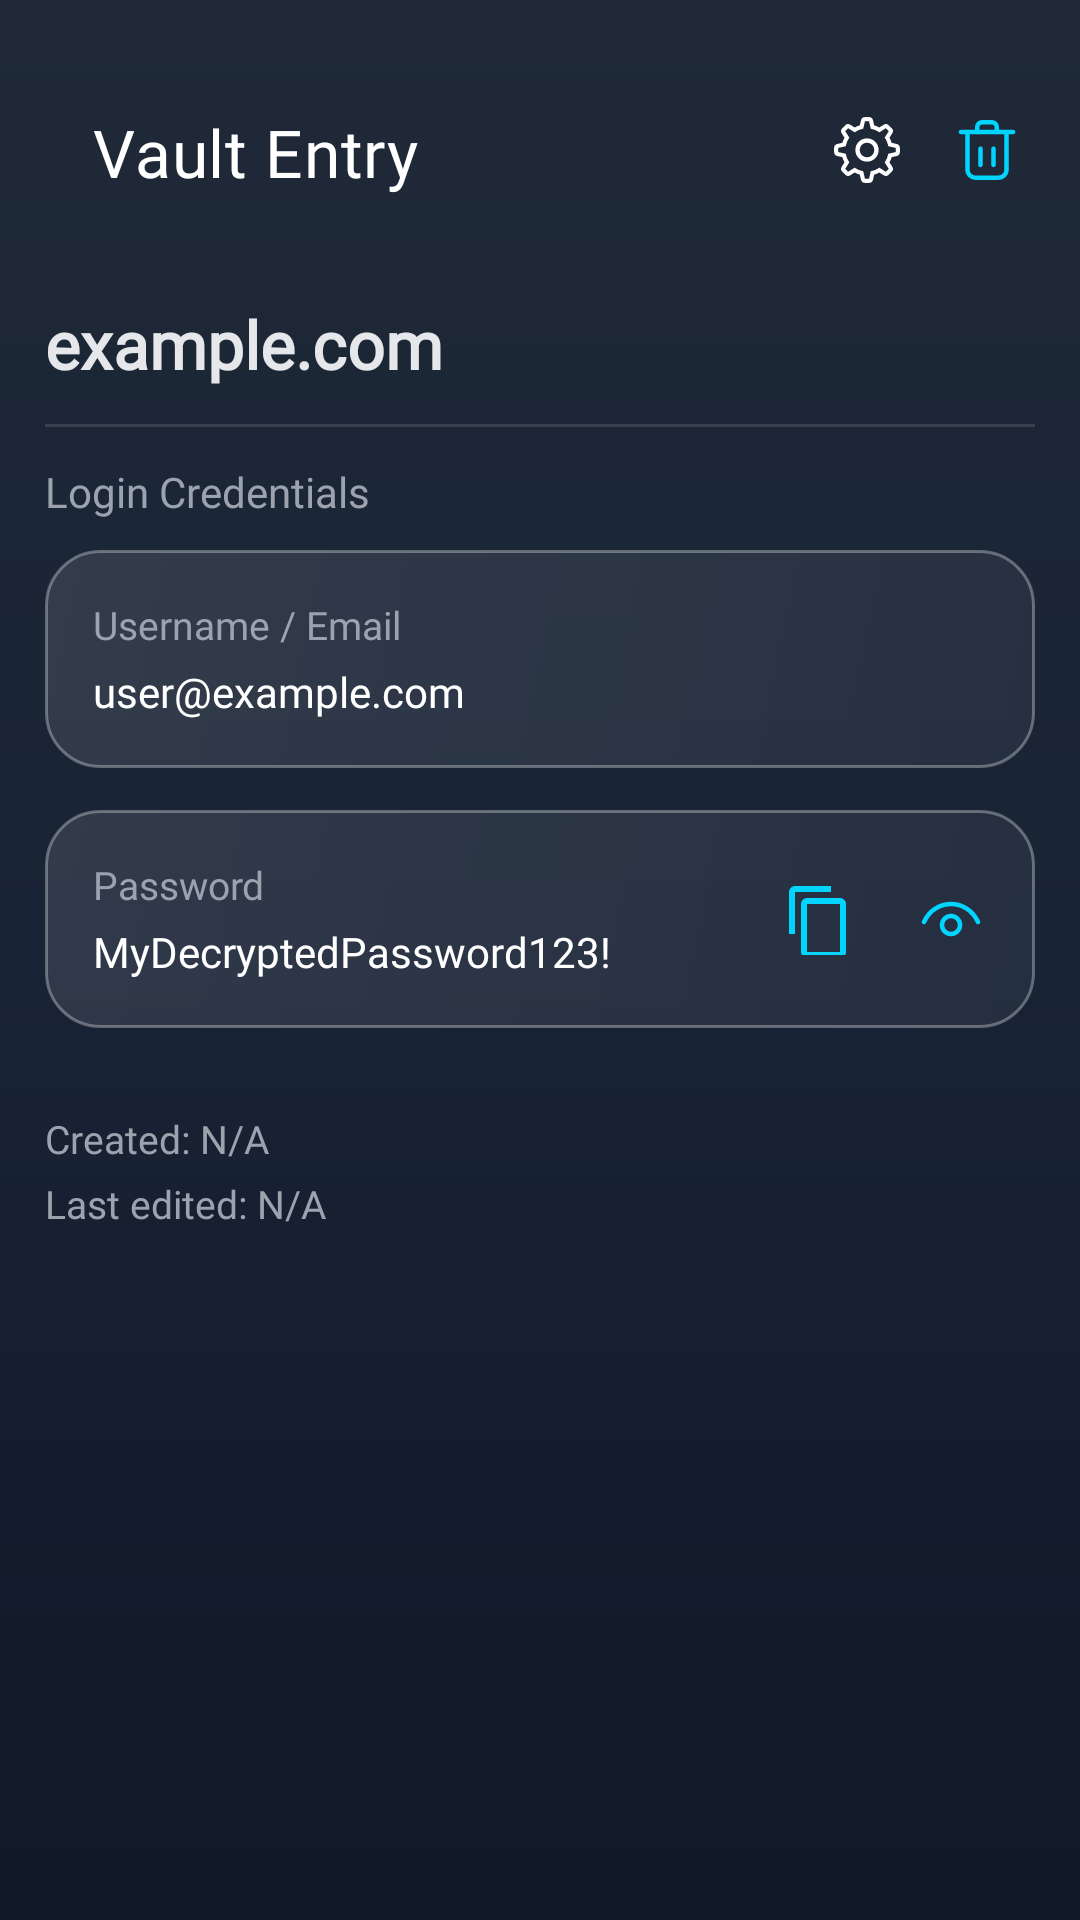

Locate icon controls on the screen. Image size 1080*1920, boxes as Rect(x1, y1, x2, y2).
Copy password: Rect(789, 886, 846, 955)
Delete entry: Rect(958, 120, 1016, 180)
Hide password: Rect(921, 901, 981, 937)
